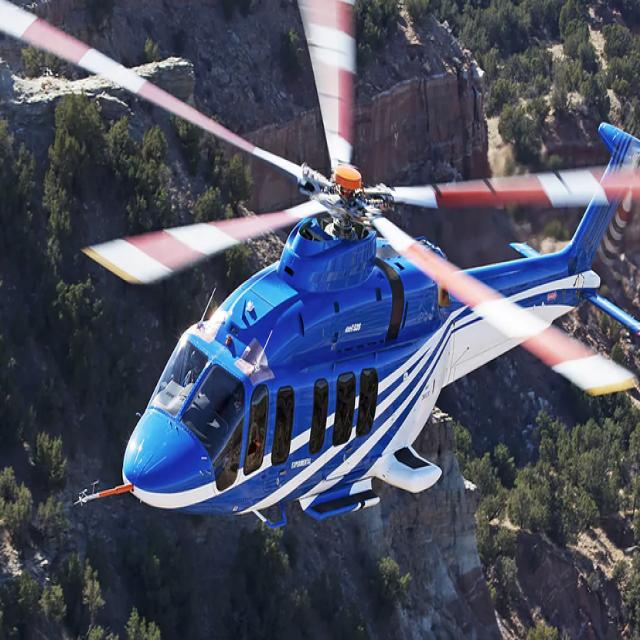helicopter: (76, 1, 640, 551)
